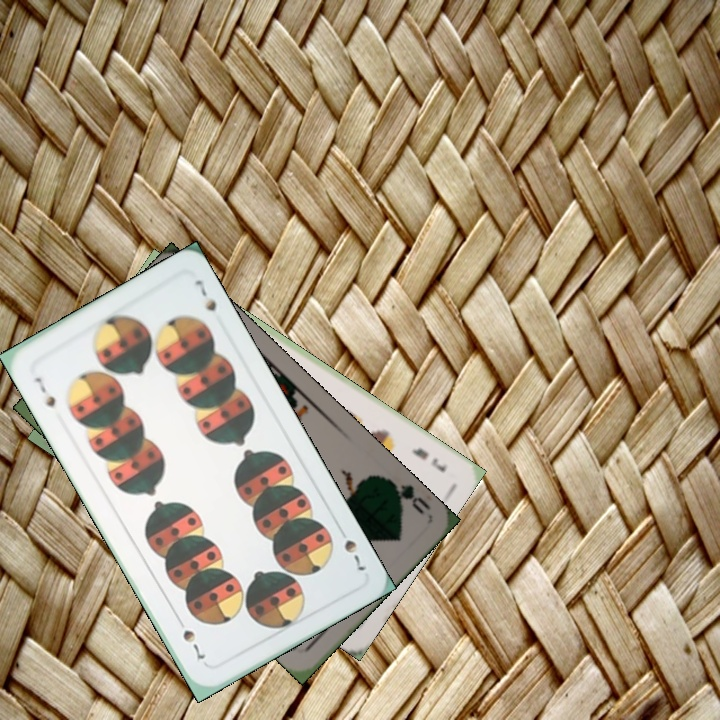E7: (407, 443, 449, 475)
GO: (382, 474, 434, 517)
S7: (334, 522, 370, 574), (31, 373, 59, 410)
